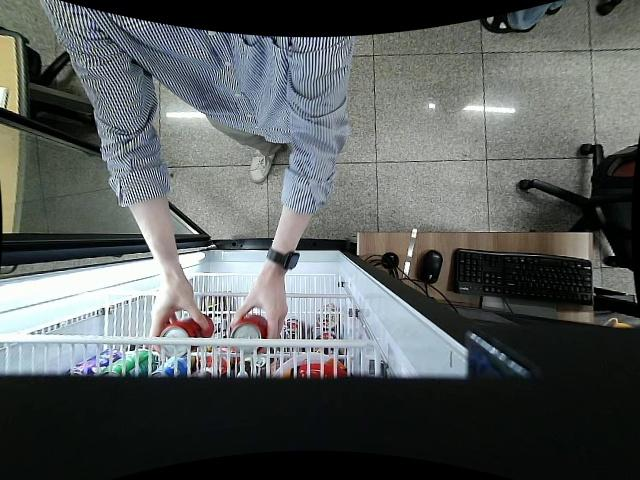00_hand: (149, 286, 210, 354), (230, 284, 288, 354)
11_cocaColaZero: (161, 312, 214, 358), (228, 312, 267, 354)
